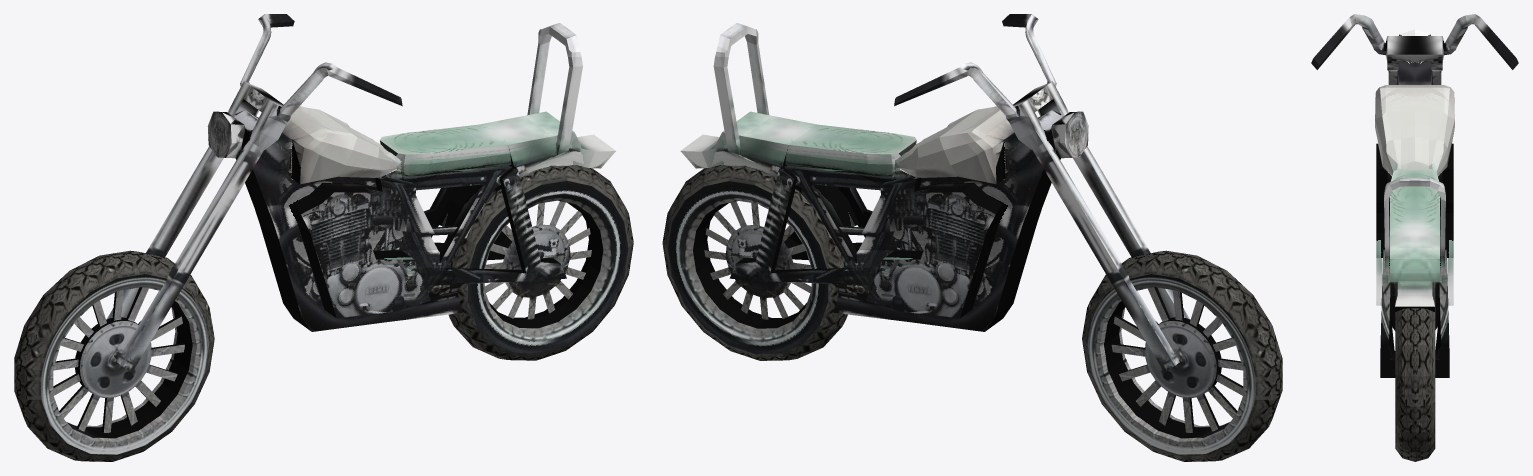
Rendered from Fonk-Bike.glb.
The picture shows the model from 3 angles, left to right: view 1: azimuth 30°, elevation 25°; view 2: azimuth 150°, elevation 25°; view 3: azimuth 270°, elevation 25°; orthographic projection. The views are drawn at different scales.
Parts seen in each view (by area): view 1: Fonk-Frame, FrontWheel, BackWheel, Forks; view 2: Fonk-Frame, FrontWheel, BackWheel, Forks; view 3: Fonk-Frame, BackWheel, Forks.
Boxes of the visible parts, x1,y1,x2,y2 form: Fonk-Frame: (236,23,615,331); FrontWheel: (14,250,214,461); BackWheel: (447,164,633,360); Forks: (107,14,402,372); Fonk-Frame: (680,23,1060,331); FrontWheel: (1082,250,1282,461); BackWheel: (662,164,847,360); Forks: (894,14,1189,372); Fonk-Frame: (1375,61,1454,377); BackWheel: (1395,282,1435,461); Forks: (1311,14,1518,84).
Size of the model in its own units: 4.99 by 2.92 by 1.64.
Materials: 4 (4 with a texture image).
